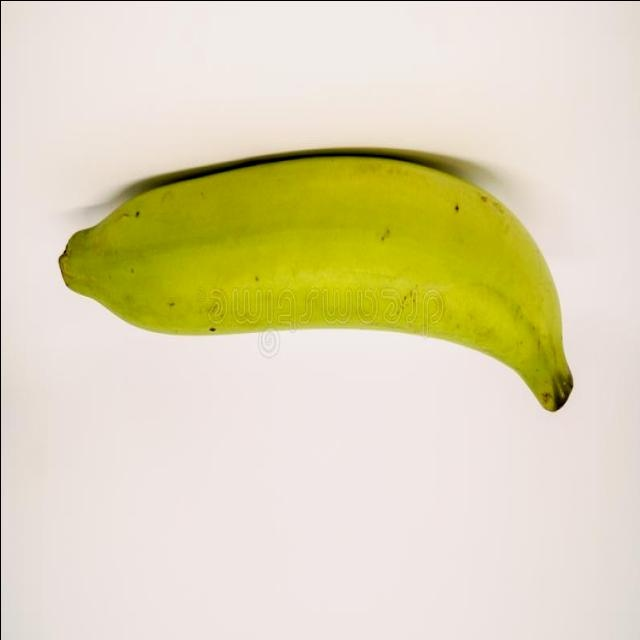agrume: (53, 151, 575, 418)
